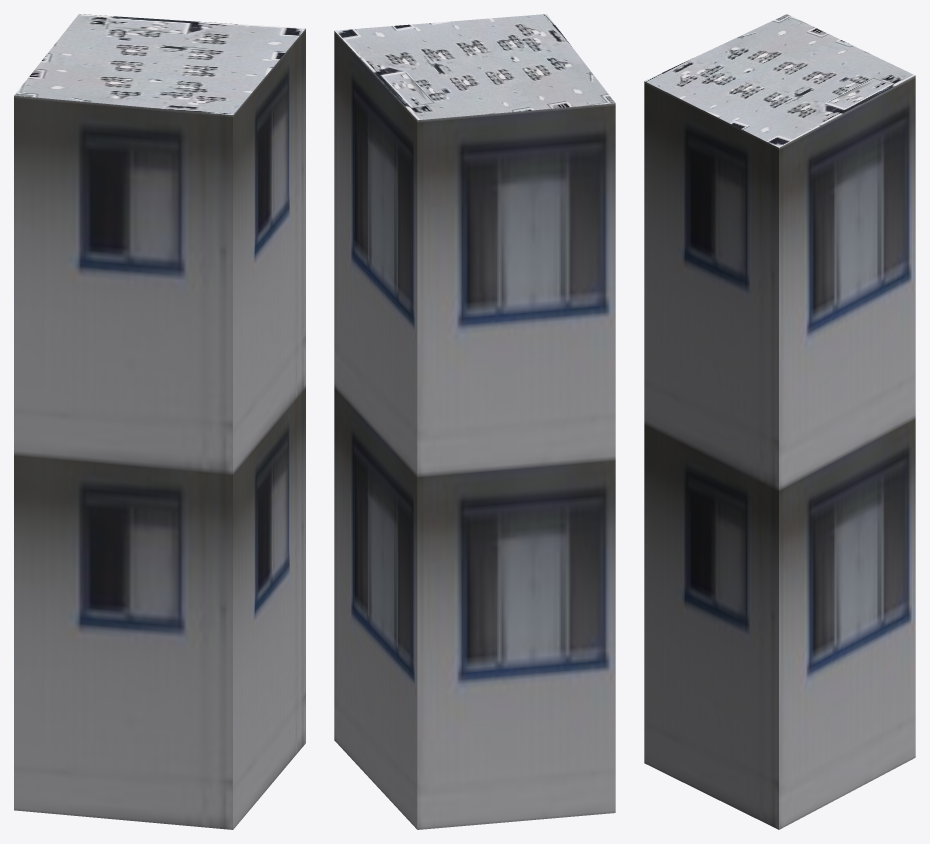
Rendered from ResTex__1446.fbx.
3 renders of one model, left to right at view 1: azimuth 30°, elevation 25°; view 2: azimuth 150°, elevation 25°; view 3: azimuth 270°, elevation 25°, orthographic. The views are drawn at different scales.
Parts seen in each view (by area): view 1: CityEngineMaterial_9_m, CityEngineMaterial_m; view 2: CityEngineMaterial_9_m, CityEngineMaterial_m; view 3: CityEngineMaterial_9_m, CityEngineMaterial_m.
Part boxes in pixels (bbox=[...]): CityEngineMaterial_9_m: bbox=[14, 29, 305, 829]; CityEngineMaterial_m: bbox=[14, 14, 305, 114]; CityEngineMaterial_9_m: bbox=[334, 31, 615, 829]; CityEngineMaterial_m: bbox=[335, 14, 615, 120]; CityEngineMaterial_9_m: bbox=[644, 76, 915, 829]; CityEngineMaterial_m: bbox=[644, 14, 915, 147].
Bounding box in the file's own units: 2.53 × 6 × 2.16.
Materials: 2 (2 with a texture image).
